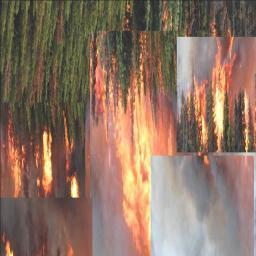Medium fire: (3, 43, 256, 256)
